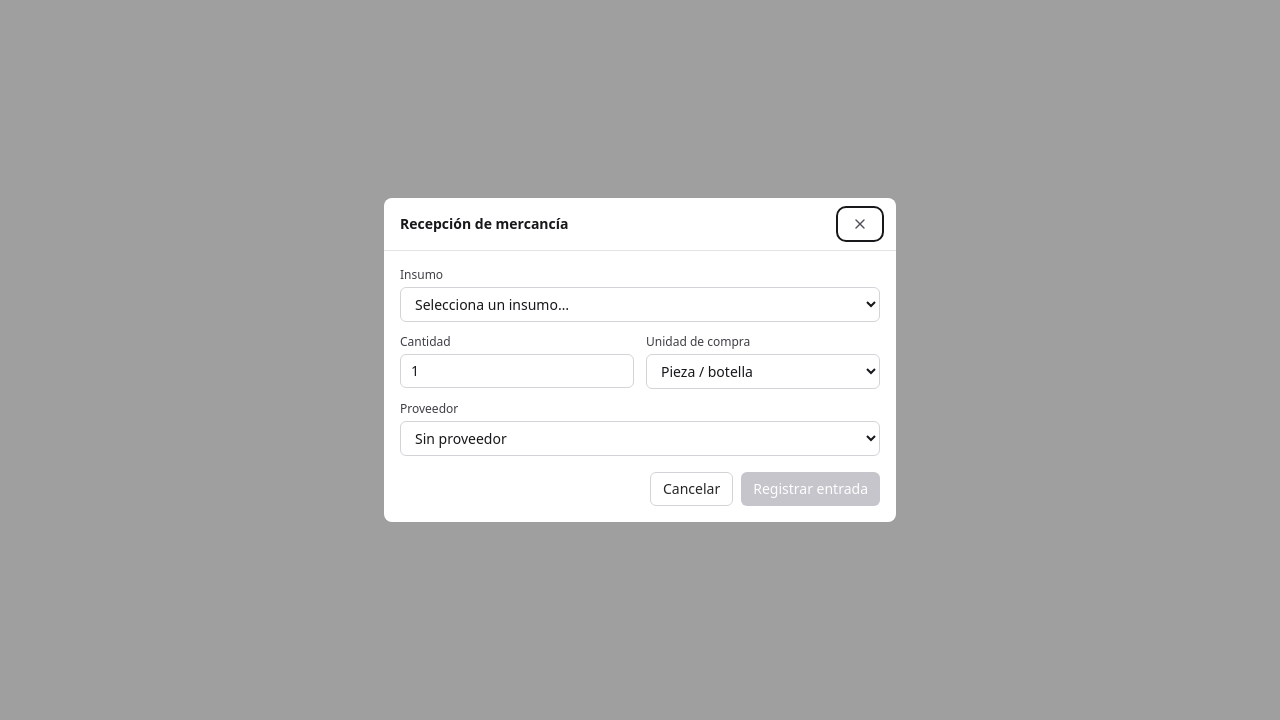
Test case: <ModalRecibirMercancia> › al comprar por caja sugiere el tamaño del catálogo pero deja corregirlo
The image size is (1280, 720).
Step 1. Select "Refresco - Lata 355 ml" in the dropdown labelled "Insumo" → (640, 304), box x1=400 y1=287 x2=880 y2=322
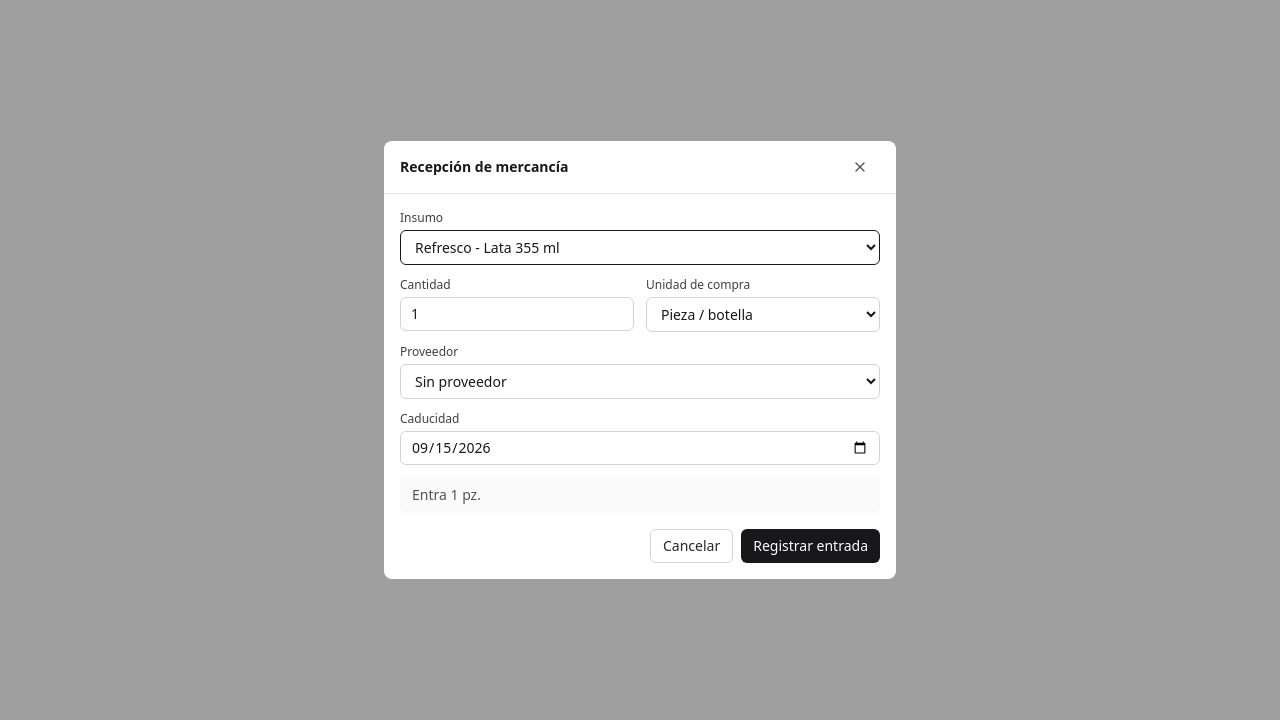
Expected: the field labelled "Piezas por caja" is not shown
Step 2. Select "Caja" in the dropdown labelled "Unidad de compra" → (763, 314), box x1=646 y1=297 x2=880 y2=332
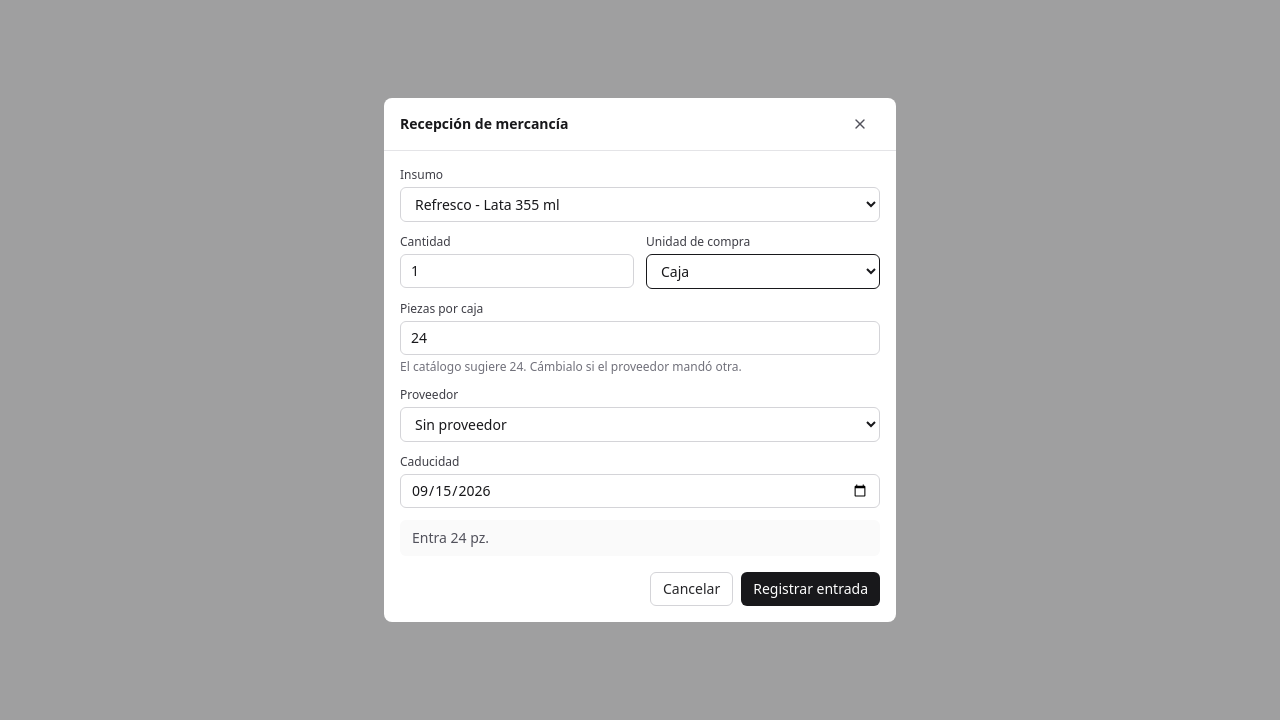
Result: the number field labelled "Piezas por caja" holds "24" at x1=400 y1=321 x2=880 y2=355
Result: the text "El catálogo sugiere 24. Cámbialo si el proveedor mandó otra." is shown at x1=400 y1=358 x2=742 y2=375
